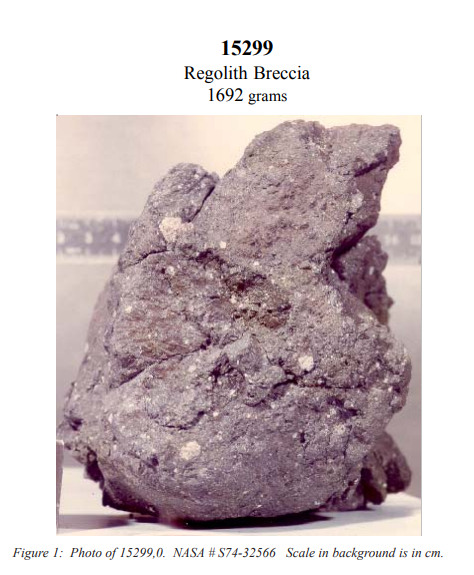Breccia: (63, 132, 404, 513)
